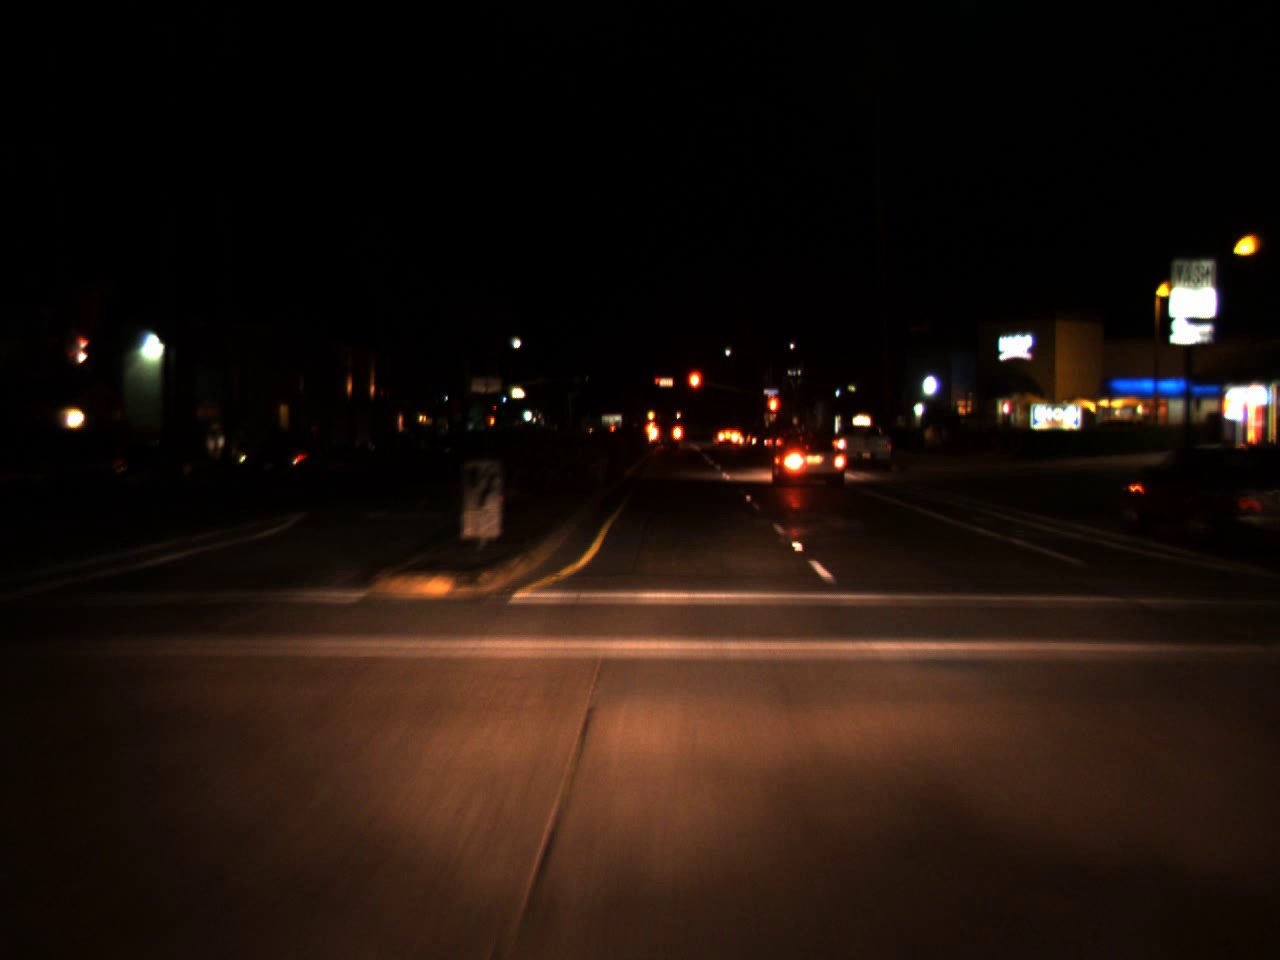stop: (686, 368, 703, 411), (765, 392, 781, 435), (655, 377, 661, 390)
